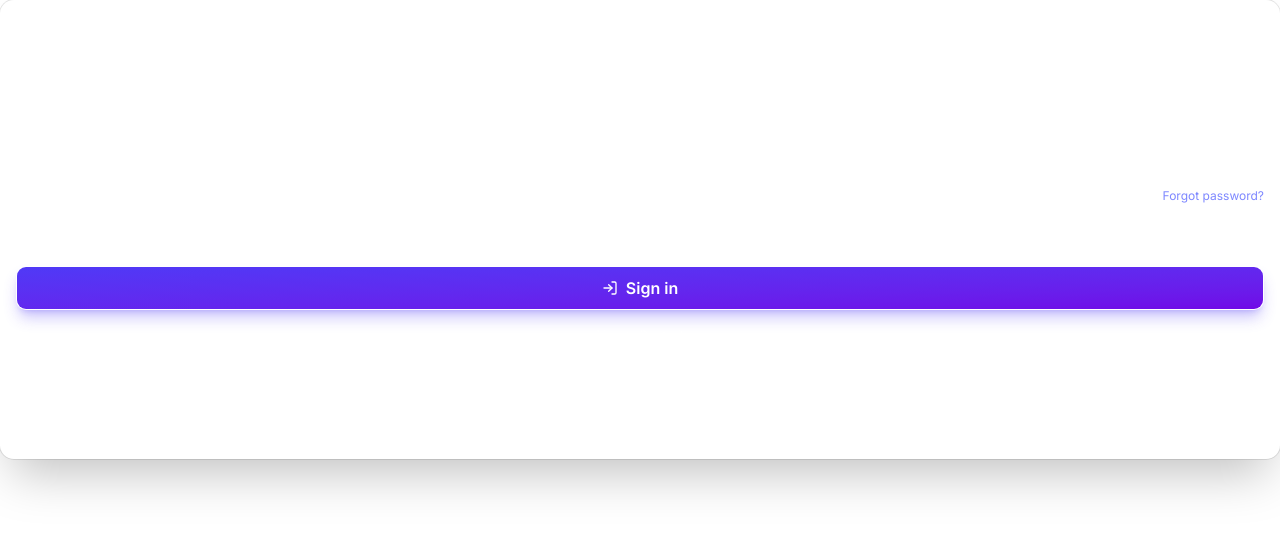
Test: LoginPage › shows a validation error for an invalid email on submit
Click the button "Sign in".
click(640, 288)  # box [16, 266, 1264, 310]
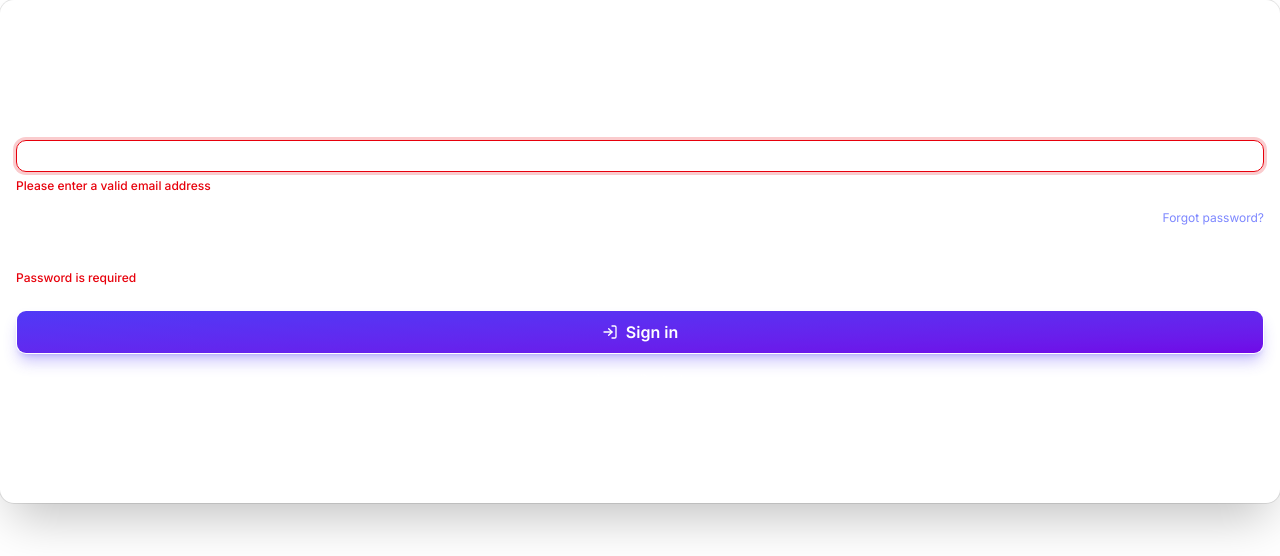
Expected: the text "Please enter a valid email address" is shown, [16, 178, 211, 193]
